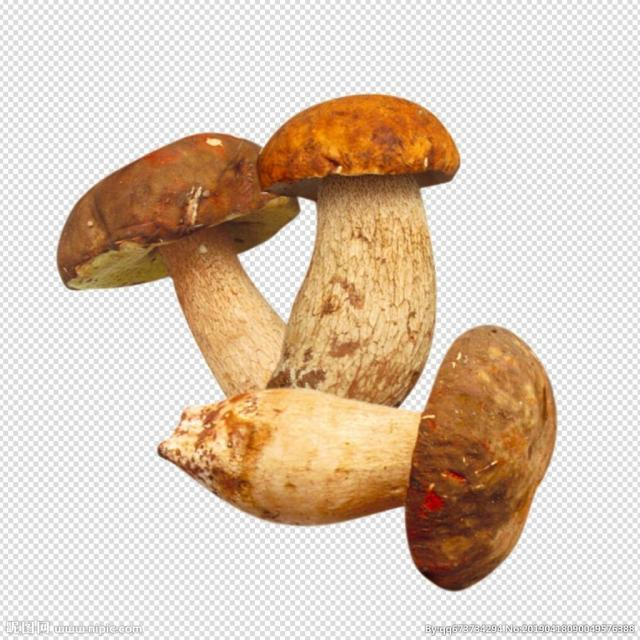Boletus: (162, 329, 560, 591), (58, 133, 302, 398), (258, 93, 460, 413)
